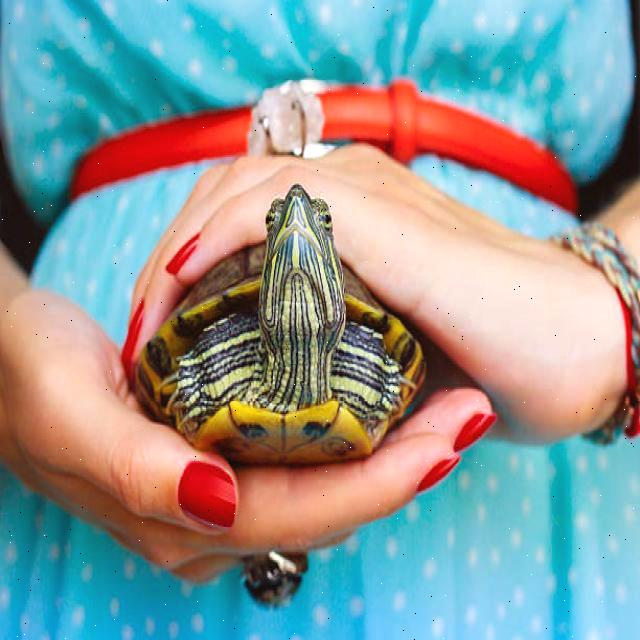tortoise: (142, 178, 446, 474)
